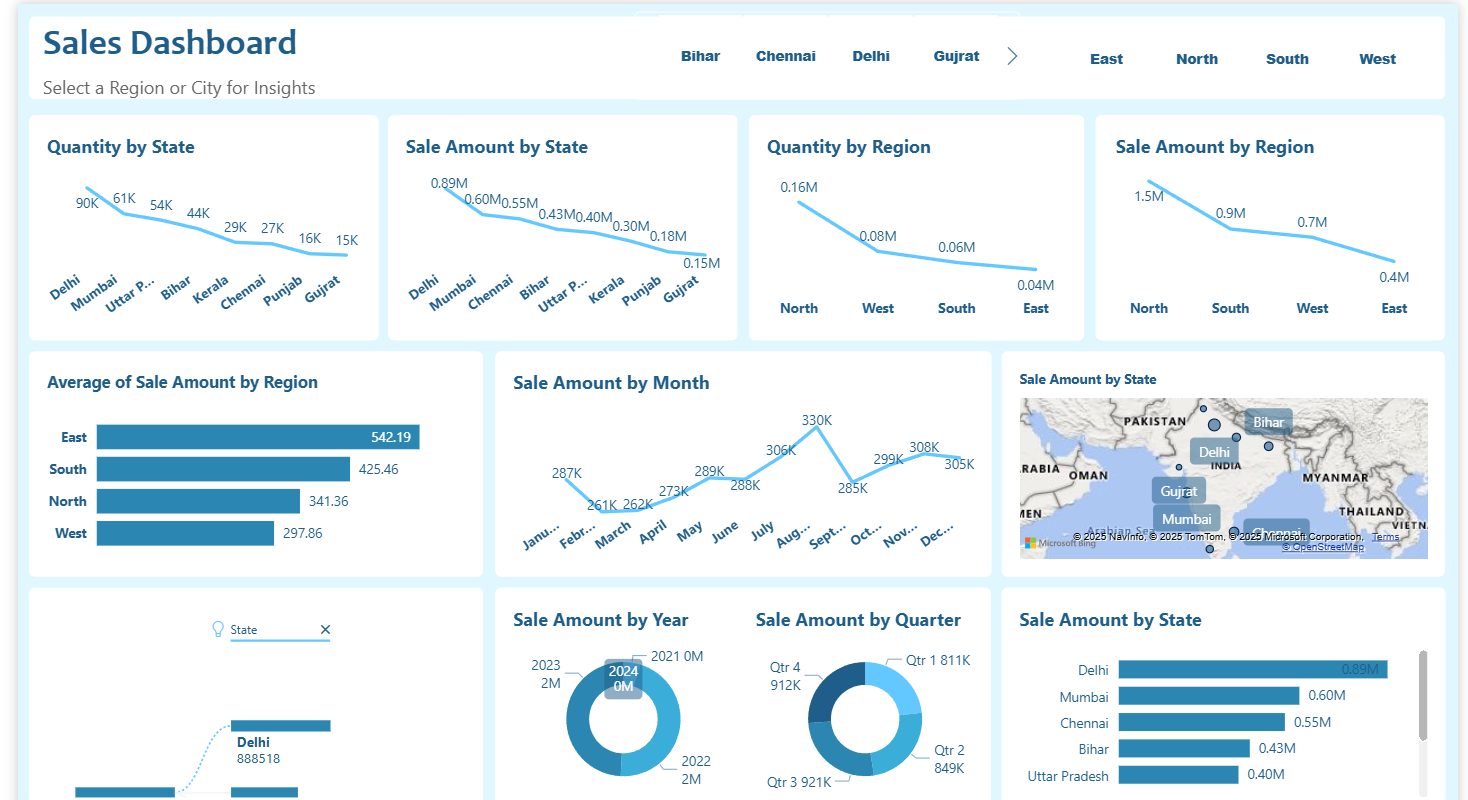

Layout of this report page (visuals, bound fields, positions):
{"tool":"powerbi","page":{"name":"Page 1","canvas":[1280,720],"ordinal":0},"visuals":[{"type":"shape","box":[9.7,10.9,1258.3,73.6],"z":0},{"type":"textbox","box":[0,14.5,685.3,66.4],"z":1000},{"type":"slicer","fields":{"Values":["City s data.Region"]},"box":[907,22,360.9,52.1],"z":2000},{"type":"slicer","fields":{"Values":["City s data.State"]},"box":[547.5,6.9,343.1,78.2],"z":3000},{"type":"textbox","box":[22,61.7,242.9,37],"z":4000},{"type":"shape","box":[9.6,98.8,310.1,200.3],"z":5000},{"type":"shape","box":[650.4,98.8,297.8,200.3],"z":6000},{"type":"shape","box":[332.1,98.8,307.4,200.3],"z":7000},{"type":"shape","box":[957.8,98.8,310.1,200.3],"z":8000},{"type":"lineChart","title":"Quantity by State","fields":{"Y":["Sum(City s data.Quantity)"],"Category":["City s data.State"]},"box":[9.6,98.8,310.1,200.3],"z":9000},{"type":"lineChart","title":"Sale Amount by State","fields":{"Y":["Sum(City s data.Sale Amount)"],"Category":["City s data.State"]},"box":[329.3,98.8,310.1,200.3],"z":10000},{"type":"lineChart","title":"Quantity by Region","fields":{"Category":["City s data.Region"],"Y":["Sum(City s data.Quantity)"]},"box":[650.4,98.8,297.8,200.3],"z":11000},{"type":"lineChart","title":"Sale Amount by Region","fields":{"Y":["Sum(City s data.Sale Amount)"],"Category":["City s data.Region"]},"box":[960.6,98.8,307.4,200.3],"z":12000},{"type":"shape","box":[9.6,308.7,403.4,200.3],"z":13000},{"type":"shape","box":[9.6,518.7,403.4,192.1],"z":14000},{"type":"shape","box":[424,308.7,440.5,200.3],"z":15000},{"type":"shape","box":[424,519,440,192],"z":16000},{"type":"shape","box":[874.1,308.7,393.8,200.3],"z":17000},{"type":"shape","box":[874,519,394,192],"z":18000},{"type":"clusteredBarChart","fields":{"Category":["City s data.Region"],"Y":["Avg(City s data.Sale Amount)"]},"box":[9.6,308.7,403.4,200.3],"z":19000},{"type":"lineChart","title":"Sale Amount by Month","fields":{"Y":["Sum(City s data.Sale Amount)"],"Category":["City s data.Date.Variation.Date Hierarchy.Month"]},"box":[424,308.7,440.5,200.3],"z":20000},{"type":"map","title":"Sale Amount by State","fields":{"Size":["Sum(City s data.Sale Amount)"],"Category":["City s data.State"]},"box":[874.1,308.7,393.8,200.3],"z":21000},{"type":"decompositionTreeVisual","fields":{"Analyze":["Sum(City s data.Sale Amount)"],"ExplainBy":["City s data.State"]},"box":[9.6,518.7,403.4,201.7],"z":22000},{"type":"donutChart","title":"Sale Amount by Year","fields":{"Category":["City s data.Date.Variation.Date Hierarchy.Year"],"Y":["Sum(City s data.Sale Amount)"]},"box":[424,518.7,226.4,201.7],"z":23000},{"type":"donutChart","title":"Sale Amount by Quarter","fields":{"Y":["Sum(City s data.Sale Amount)"],"Category":["City s data.Date.Variation.Date Hierarchy.Quarter"]},"box":[639.5,518.7,225,201.7],"z":24000},{"type":"barChart","title":"Sale Amount by State","fields":{"Y":["Sum(City s data.Sale Amount)"],"Category":["City s data.State"]},"box":[874.1,518.7,393.8,201.7],"z":25000}]}

Visuals, with their boxes on the page's 1280x720 design canvas (x1, y1, x2, y2). These are canvas units, not pixel positions in the 1468x800 screenshot, which may show the page scaled, cropped or inside an application window:
shape: {"left": 10, "top": 11, "right": 1268, "bottom": 84}
textbox: {"left": 0, "top": 14, "right": 685, "bottom": 81}
slicer - City s data.Region: {"left": 907, "top": 22, "right": 1268, "bottom": 74}
slicer - City s data.State: {"left": 548, "top": 7, "right": 891, "bottom": 85}
textbox: {"left": 22, "top": 62, "right": 265, "bottom": 99}
shape: {"left": 10, "top": 99, "right": 320, "bottom": 299}
shape: {"left": 650, "top": 99, "right": 948, "bottom": 299}
shape: {"left": 332, "top": 99, "right": 640, "bottom": 299}
shape: {"left": 958, "top": 99, "right": 1268, "bottom": 299}
"Quantity by State" lineChart: {"left": 10, "top": 99, "right": 320, "bottom": 299}
"Sale Amount by State" lineChart: {"left": 329, "top": 99, "right": 639, "bottom": 299}
"Quantity by Region" lineChart: {"left": 650, "top": 99, "right": 948, "bottom": 299}
"Sale Amount by Region" lineChart: {"left": 961, "top": 99, "right": 1268, "bottom": 299}
shape: {"left": 10, "top": 309, "right": 413, "bottom": 509}
shape: {"left": 10, "top": 519, "right": 413, "bottom": 711}
shape: {"left": 424, "top": 309, "right": 864, "bottom": 509}
shape: {"left": 424, "top": 519, "right": 864, "bottom": 711}
shape: {"left": 874, "top": 309, "right": 1268, "bottom": 509}
shape: {"left": 874, "top": 519, "right": 1268, "bottom": 711}
clusteredBarChart - City s data.Region x Avg(City s data.Sale Amount): {"left": 10, "top": 309, "right": 413, "bottom": 509}
"Sale Amount by Month" lineChart: {"left": 424, "top": 309, "right": 864, "bottom": 509}
"Sale Amount by State" map: {"left": 874, "top": 309, "right": 1268, "bottom": 509}
decompositionTreeVisual - Sum(City s data.Sale Amount) x City s data.State: {"left": 10, "top": 519, "right": 413, "bottom": 720}
"Sale Amount by Year" donutChart: {"left": 424, "top": 519, "right": 650, "bottom": 720}
"Sale Amount by Quarter" donutChart: {"left": 640, "top": 519, "right": 864, "bottom": 720}
"Sale Amount by State" barChart: {"left": 874, "top": 519, "right": 1268, "bottom": 720}
